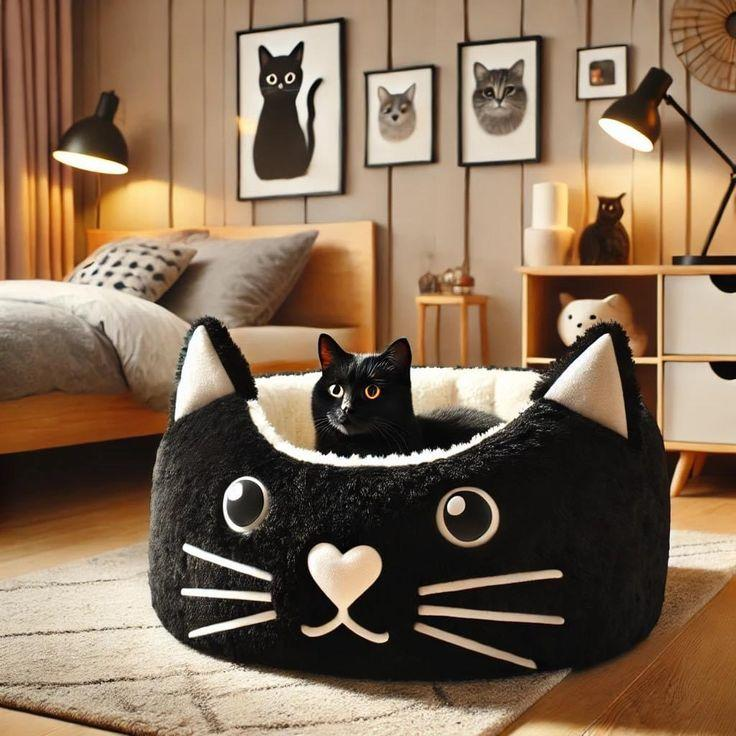kedo: (314, 334, 500, 454)
